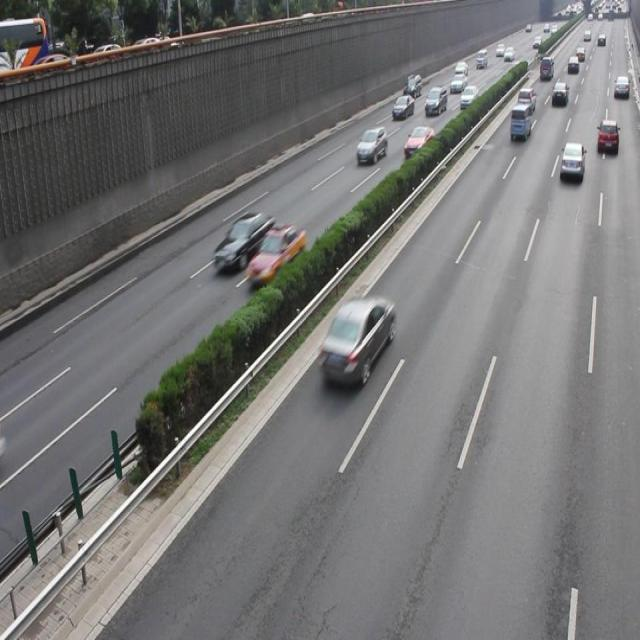car: (318, 294, 396, 387), (214, 210, 274, 274), (246, 223, 307, 282), (355, 126, 386, 163), (402, 125, 433, 161), (559, 140, 583, 181)
